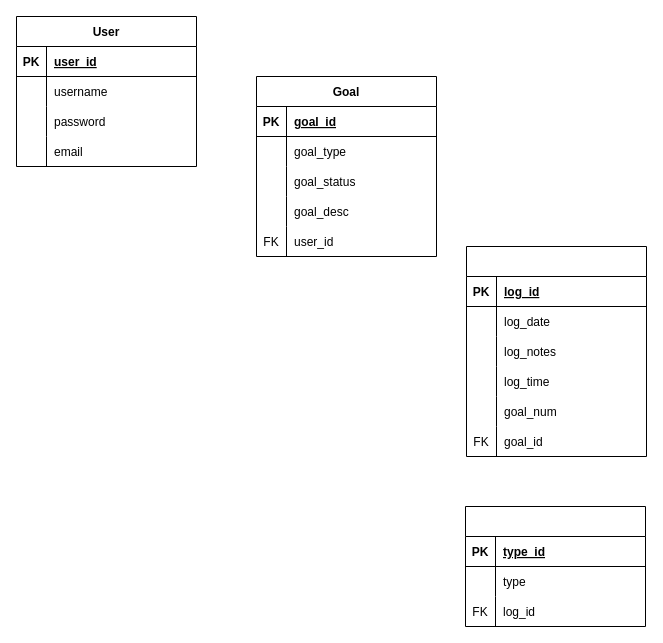
Some shapes in this 663 by 643 pixel diagram are drawn without their labels. Here are the shapes that lost their labels. From the top down, the box of each, then its label:
(466, 246, 646, 456): Workout Log
(464, 506, 646, 626): Workout Type
